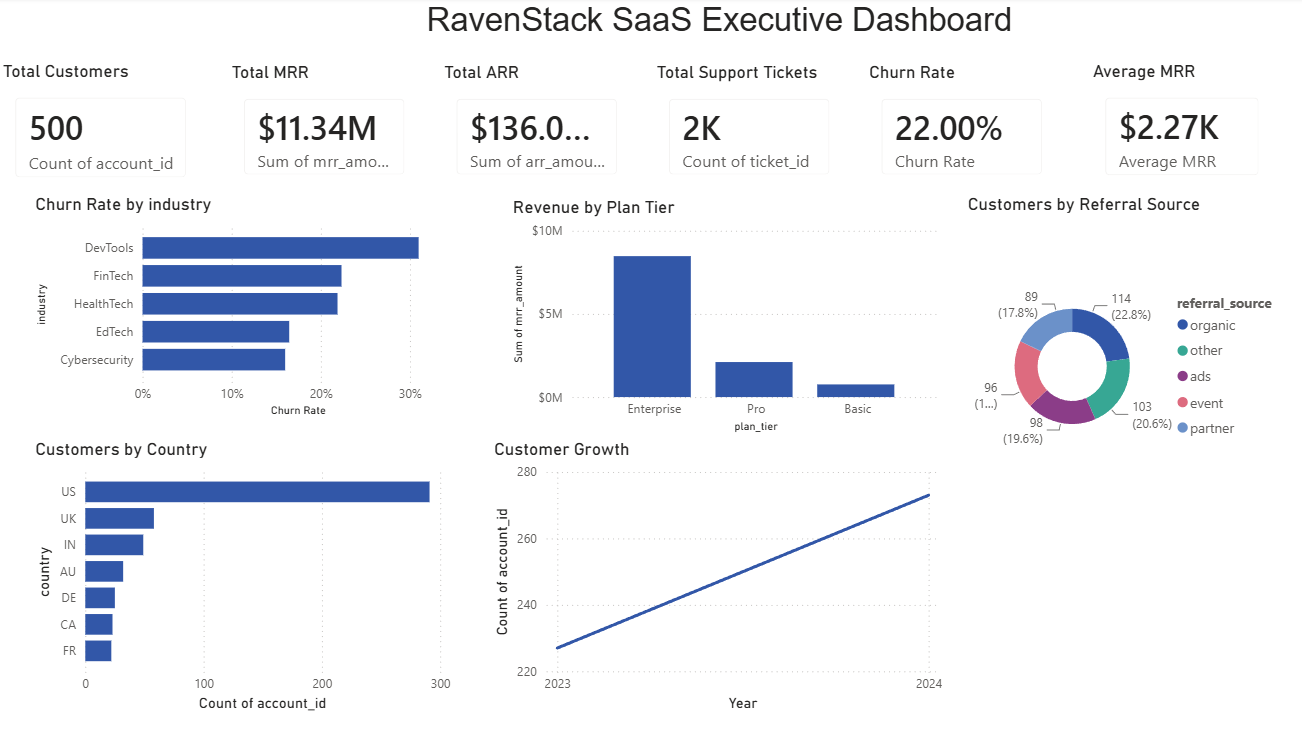

The dashboard page shown, as its layout file describes it:
{"tool":"powerbi","page":{"name":"Executive Dashboard","canvas":[1280,720],"ordinal":0},"visuals":[{"type":"cardVisual","title":"Total Customers","fields":{"Data":["CountNonNull(ravenstack_accounts.account_id)"]},"box":[0,62.9,201.2,131.2],"z":0},{"type":"cardVisual","title":"Total MRR","fields":{"Data":["Sum(ravenstack_subscriptions.mrr_amount)"]},"box":[224,64,192,128],"z":1000},{"type":"cardVisual","title":"Churn Rate","fields":{"Data":["ravenstack_accounts.Churn Rate"]},"box":[848,64,192,128],"z":2000},{"type":"cardVisual","title":"Total Support Tickets","fields":{"Data":["CountNonNull(ravenstack_support_tickets.ticket_id)"]},"box":[640,64,192,128],"z":3000},{"type":"cardVisual","title":"Total ARR","fields":{"Data":["Sum(ravenstack_subscriptions.arr_amount)"]},"box":[432,64,192,128],"z":4000},{"type":"cardVisual","title":"Average MRR","fields":{"Data":["ravenstack_accounts.Average MRR"]},"box":[1066,62.9,184,130],"z":5000},{"type":"clusteredBarChart","fields":{"Category":["ravenstack_accounts.industry"],"Y":["ravenstack_accounts.Churn Rate"]},"box":[32,192,432,224],"z":6000},{"type":"clusteredColumnChart","title":"Revenue by Plan Tier","fields":{"Category":["ravenstack_subscriptions.plan_tier"],"Y":["Sum(ravenstack_subscriptions.mrr_amount)"]},"box":[498.6,195.7,427.1,235.7],"z":7000},{"type":"clusteredBarChart","title":"Customers by Country","fields":{"Category":["ravenstack_accounts.country"],"Y":["CountNonNull(ravenstack_accounts.account_id)"]},"box":[32,432,416,272],"z":8000},{"type":"donutChart","title":"Customers by Referral Source","fields":{"Category":["ravenstack_accounts.referral_source"],"Y":["CountNonNull(ravenstack_accounts.account_id)"]},"box":[944,192,320,320],"z":9000},{"type":"lineChart","title":"Customer Growth","fields":{"Category":["ravenstack_accounts.signup_date.Variation.Date Hierarchy.Year","ravenstack_accounts.signup_date.Variation.Date Hierarchy.Quarter","ravenstack_accounts.signup_date.Variation.Date Hierarchy.Month","ravenstack_accounts.signup_date.Variation.Date Hierarchy.Day"],"Y":["CountNonNull(ravenstack_accounts.account_id)"]},"box":[480,432,448,272],"z":10000},{"type":"textbox","box":[218,0,816,62],"z":11000}]}

Visuals, with their boxes in screenshot pixels (x1, y1, x2, y2), scaled from the page's 1280x720 canvas onto the 1302x730 screenshot:
"Total Customers" cardVisual: x1=0 y1=64 x2=205 y2=197
"Total MRR" cardVisual: x1=228 y1=65 x2=423 y2=195
"Churn Rate" cardVisual: x1=863 y1=65 x2=1058 y2=195
"Total Support Tickets" cardVisual: x1=651 y1=65 x2=846 y2=195
"Total ARR" cardVisual: x1=439 y1=65 x2=635 y2=195
"Average MRR" cardVisual: x1=1084 y1=64 x2=1271 y2=196
clusteredBarChart - ravenstack_accounts.industry x ravenstack_accounts.Churn Rate: x1=33 y1=195 x2=472 y2=422
"Revenue by Plan Tier" clusteredColumnChart: x1=507 y1=198 x2=942 y2=437
"Customers by Country" clusteredBarChart: x1=33 y1=438 x2=456 y2=714
"Customers by Referral Source" donutChart: x1=960 y1=195 x2=1286 y2=519
"Customer Growth" lineChart: x1=488 y1=438 x2=944 y2=714
textbox: x1=222 y1=0 x2=1052 y2=63
